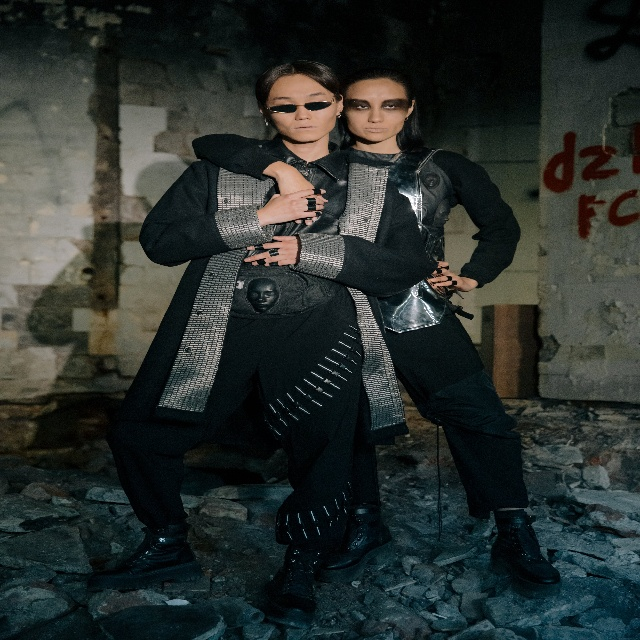Gafas: (268, 98, 332, 123)
Sin_guantes: (275, 168, 324, 230), (270, 187, 328, 225), (245, 232, 293, 272), (431, 258, 477, 299)
